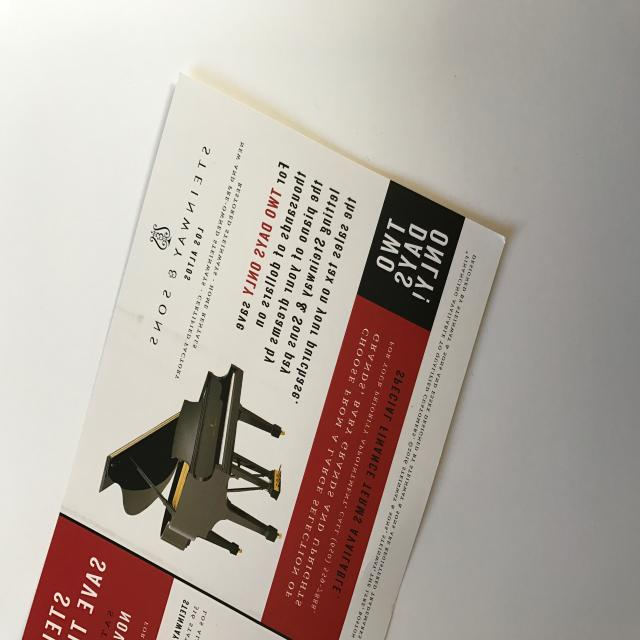paper: (2, 0, 638, 640)
